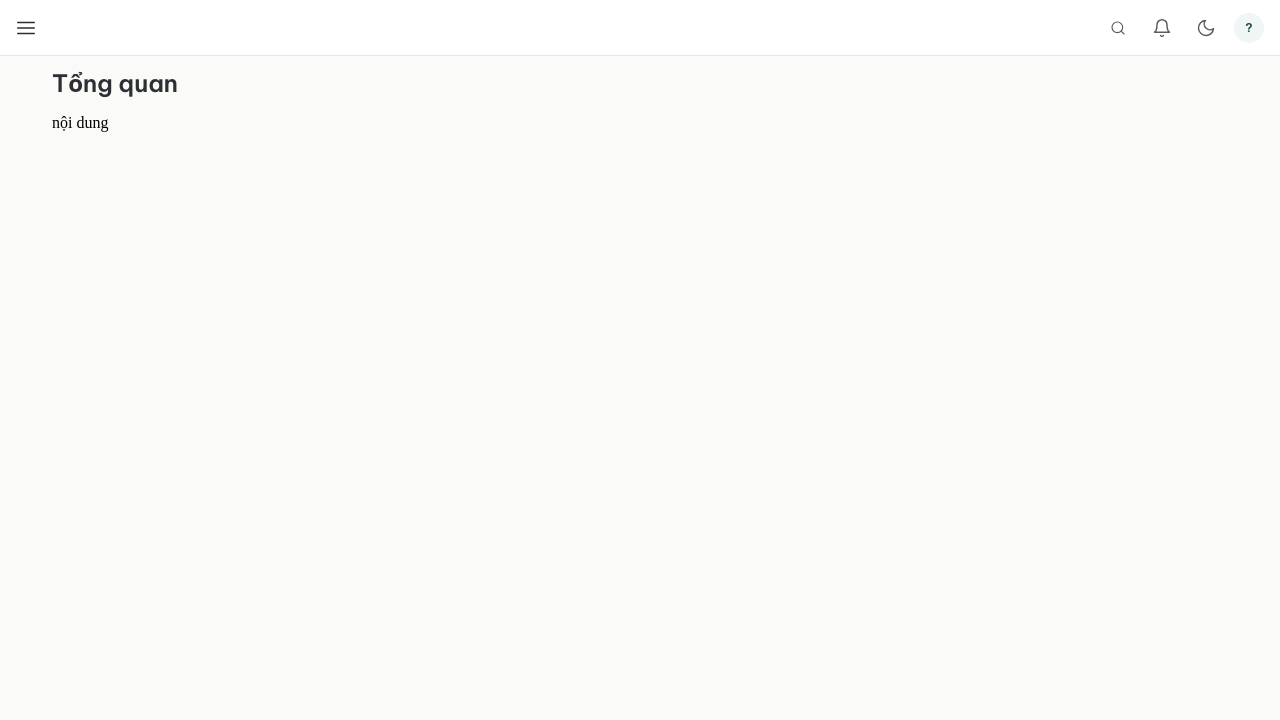
Scenario: AdminShell responsive › shows a hamburger that toggles the drawer on compact widths
Click the button named "Mở menu điều hướng" at (26, 28), box x1=4 y1=6 x2=48 y2=50
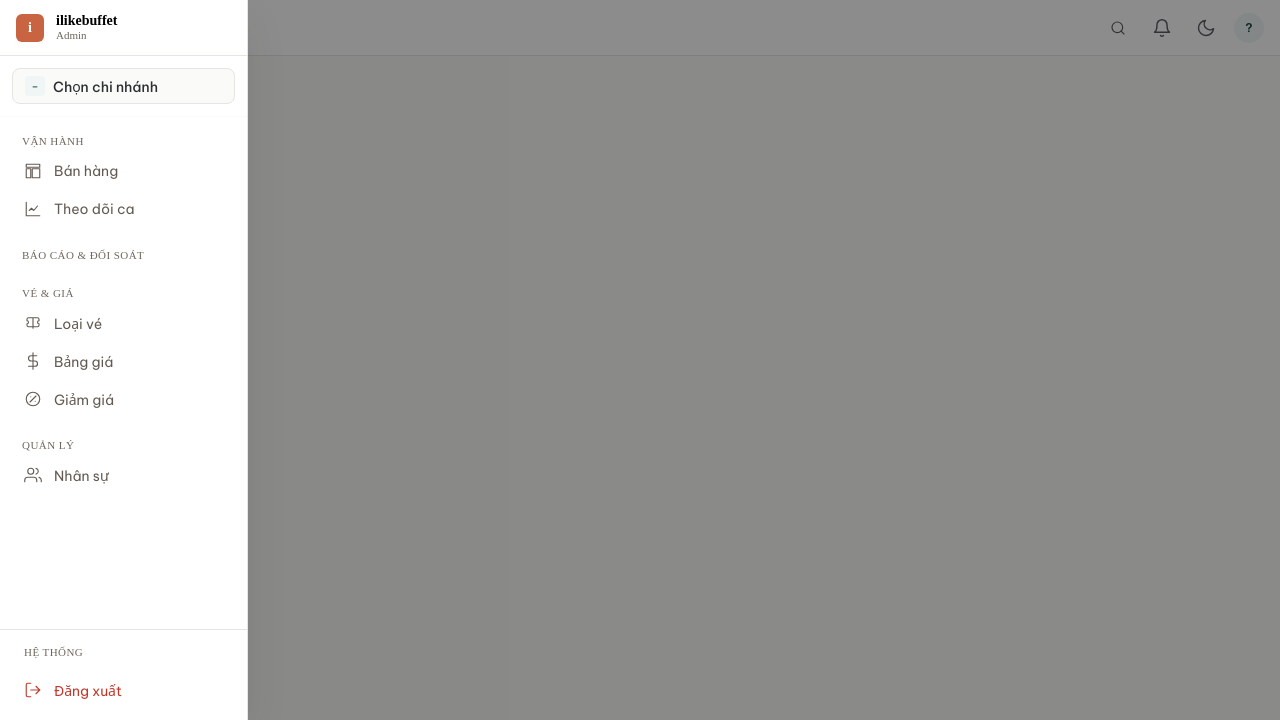
Now the button named "Mở menu điều hướng" is expanded, box x1=4 y1=6 x2=48 y2=50
